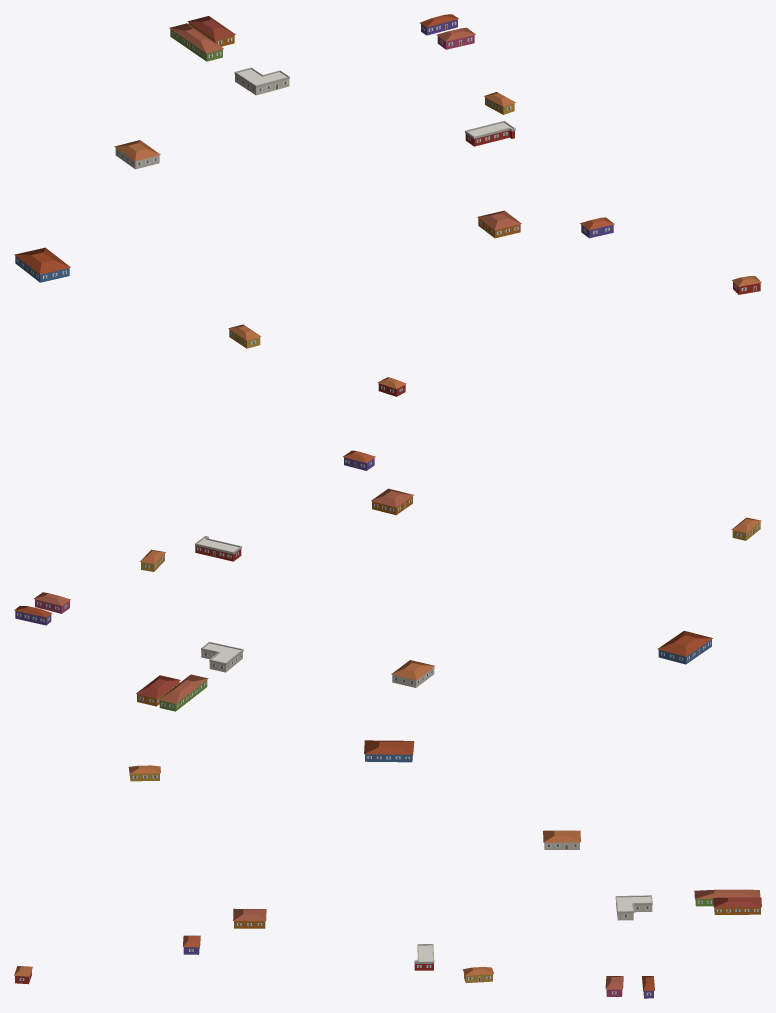
File: msb_noord_m16_m12.glb
The picture shows the model from 3 angles, top to bottom: view 1: azimuth 30°, elevation 25°; view 2: azimuth 150°, elevation 25°; view 3: azimuth 270°, elevation 25°; orthographic projection. The views are drawn at different scales.
Visible parts, largest first — view 1: msb_noord_m16_m12_lod0; view 2: msb_noord_m16_m12_lod0; view 3: msb_noord_m16_m12_lod0.
Boxes of the visible parts, <box> form: msb_noord_m16_m12_lod0: <box>14,14,761,348</box>; msb_noord_m16_m12_lod0: <box>14,377,761,711</box>; msb_noord_m16_m12_lod0: <box>14,740,761,998</box>.
Size of what is drawn, in the model's own units: 242 by 10.51 by 299.
Materials: 3 (1 with a texture image).
